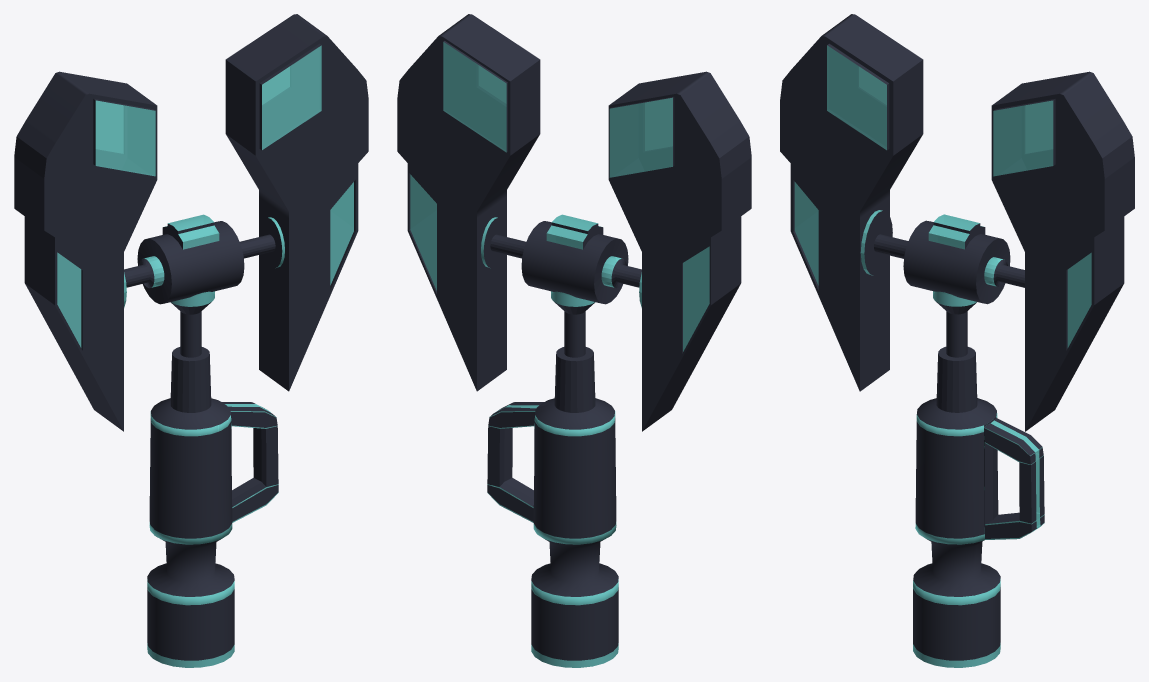
File: astro_weapon.fbx
The picture shows the model from 3 angles, left to right: view 1: azimuth 30°, elevation 25°; view 2: azimuth 150°, elevation 25°; view 3: azimuth 330°, elevation 25°; orthographic projection.
Visible parts, largest first — view 1: pCube2, pCube1, pCylinder1, pCylinder2; view 2: pCube2, pCube1, pCylinder1, pCylinder2; view 3: pCube2, pCube1, pCylinder1, pCylinder2.
Part boxes in pixels (x1,y1,x2,y2): pCube2: (225, 14, 368, 391); pCube1: (14, 71, 157, 431); pCylinder1: (147, 291, 278, 667); pCylinder2: (124, 214, 284, 307); pCube2: (397, 14, 540, 391); pCube1: (608, 71, 751, 431); pCylinder1: (487, 291, 618, 667); pCylinder2: (481, 214, 641, 307); pCube2: (991, 71, 1134, 431); pCube1: (780, 14, 923, 391); pCylinder1: (913, 291, 1044, 667); pCylinder2: (860, 210, 1024, 304).
Bounding box in the file's own units: 12.43 × 21.78 × 2.92.
